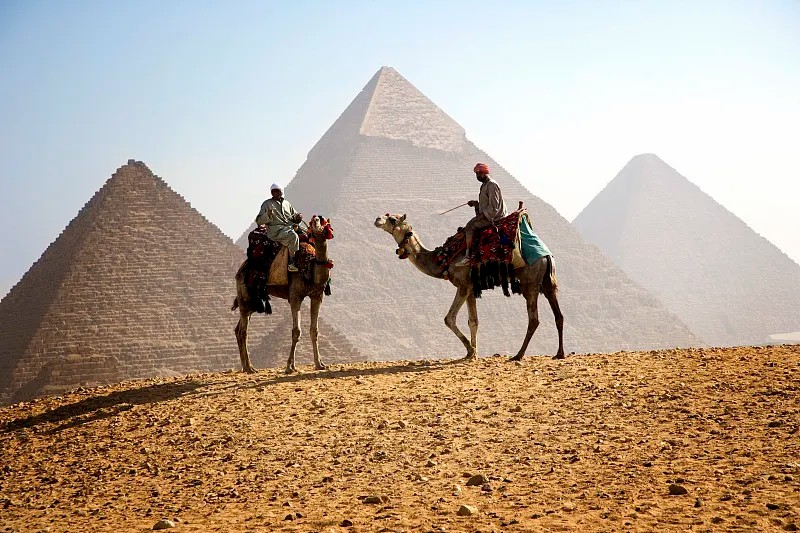Pyramid: (236, 66, 706, 349), (1, 159, 367, 398), (573, 153, 800, 346)
